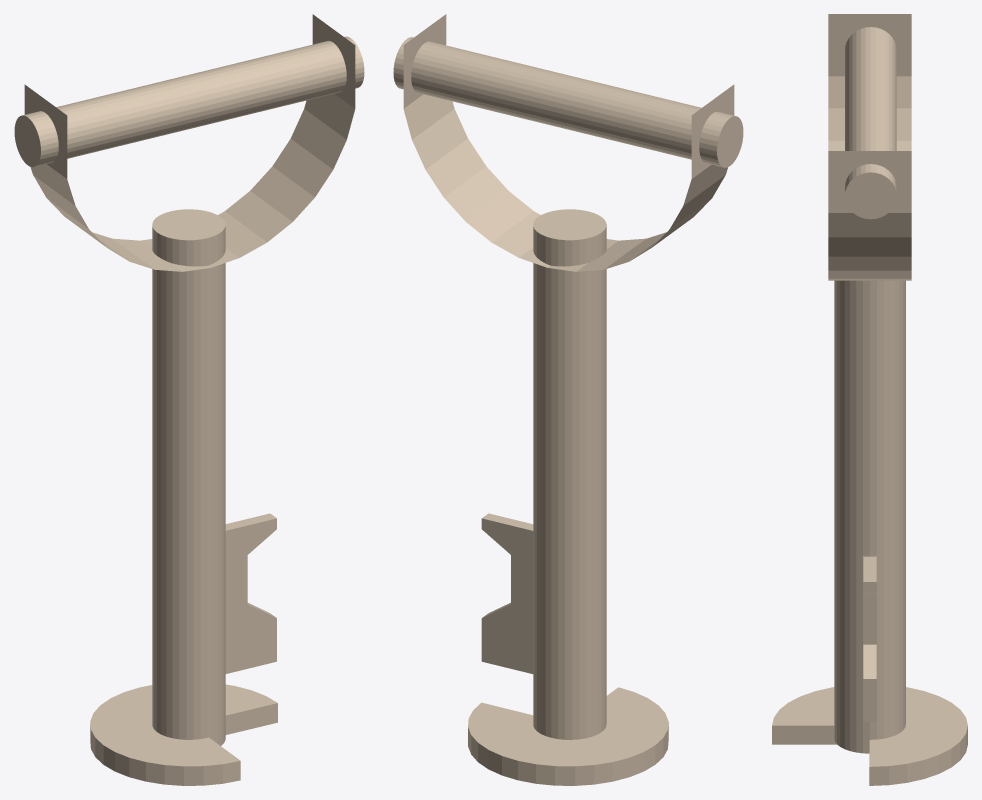
File: Correct key.glb
3 renders of one model, left to right at view 1: azimuth 30°, elevation 25°; view 2: azimuth 150°, elevation 25°; view 3: azimuth 270°, elevation 25°, orthographic. The views are drawn at different scales.
Parts seen in each view (by area): view 1: Cylinder.006, Cylinder.007, Cylinder.008, Circle, Plane.005; view 2: Cylinder.006, Cylinder.007, Cylinder.008, Circle, Plane.005; view 3: Cylinder.006, Cylinder.008, Circle, Cylinder.007, Plane.005.
Boxes of the visible parts, x1=… form: Cylinder.006: x1=152, y1=209, x2=225, y2=745; Cylinder.007: x1=14, y1=36, x2=364, y2=167; Cylinder.008: x1=24, y1=14, x2=355, y2=271; Circle: x1=90, y1=684, x2=277, y2=785; Plane.005: x1=225, y1=513, x2=276, y2=673; Cylinder.006: x1=533, y1=209, x2=606, y2=739; Cylinder.007: x1=393, y1=37, x2=743, y2=167; Cylinder.008: x1=403, y1=14, x2=734, y2=271; Circle: x1=468, y1=687, x2=668, y2=785; Plane.005: x1=481, y1=513, x2=533, y2=673; Cylinder.006: x1=834, y1=280, x2=905, y2=753; Cylinder.008: x1=828, y1=14, x2=911, y2=280; Circle: x1=772, y1=687, x2=967, y2=785; Cylinder.007: x1=845, y1=27, x2=896, y2=219; Plane.005: x1=863, y1=556, x2=876, y2=721.
Bounding box in the file's own units: 0.1809 × 0.3629 × 0.0974.
